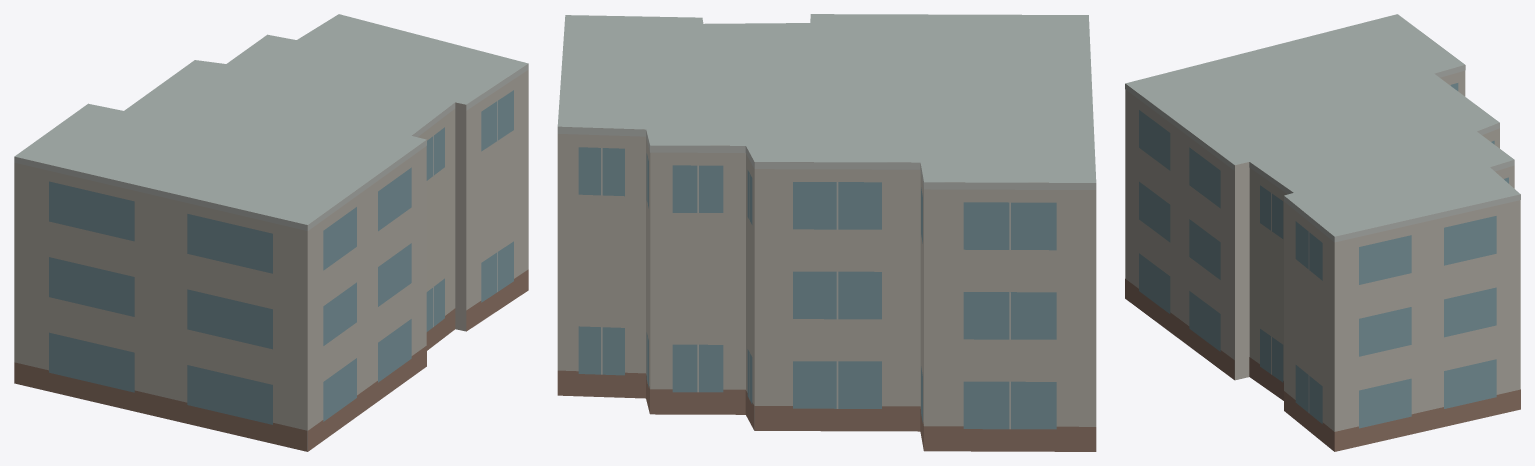
File: survey-upis-32934850.glb
3 renders of one model, left to right at view 1: azimuth 30°, elevation 25°; view 2: azimuth 150°, elevation 25°; view 3: azimuth 270°, elevation 25°, orthographic. The views are drawn at different scales.
Parts seen in each view (by area): view 1: survey-upis-32934850.tmp; view 2: survey-upis-32934850.tmp; view 3: survey-upis-32934850.tmp.
Part boxes in pixels (x1,y1,x2,y2): survey-upis-32934850.tmp: (14, 14, 528, 451); survey-upis-32934850.tmp: (557, 14, 1096, 451); survey-upis-32934850.tmp: (1125, 14, 1520, 451).
Size of the model in its own units: 20.32 by 9.15 by 15.26.
